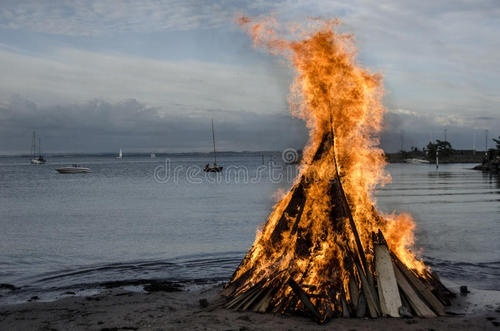fire: (234, 7, 428, 297)
